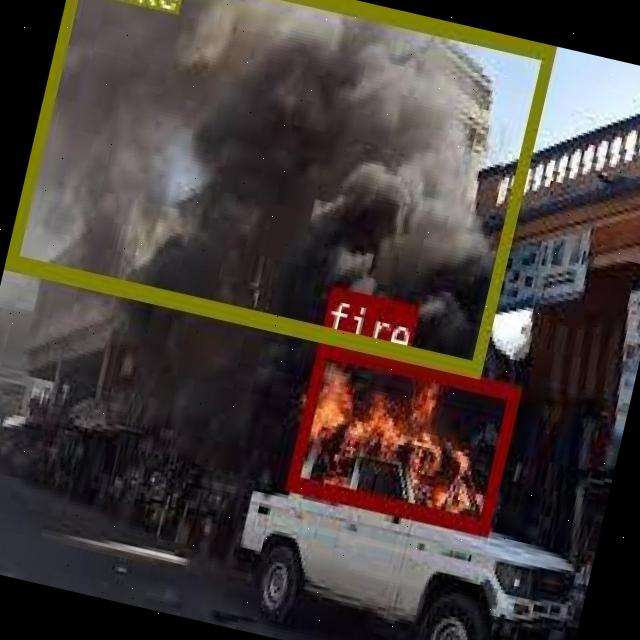fire: (284, 338, 519, 531)
smoke: (5, 0, 555, 372)
